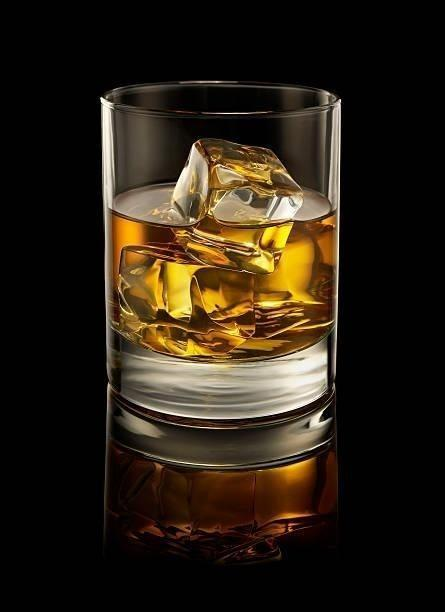glass-normal: (101, 74, 350, 471)
